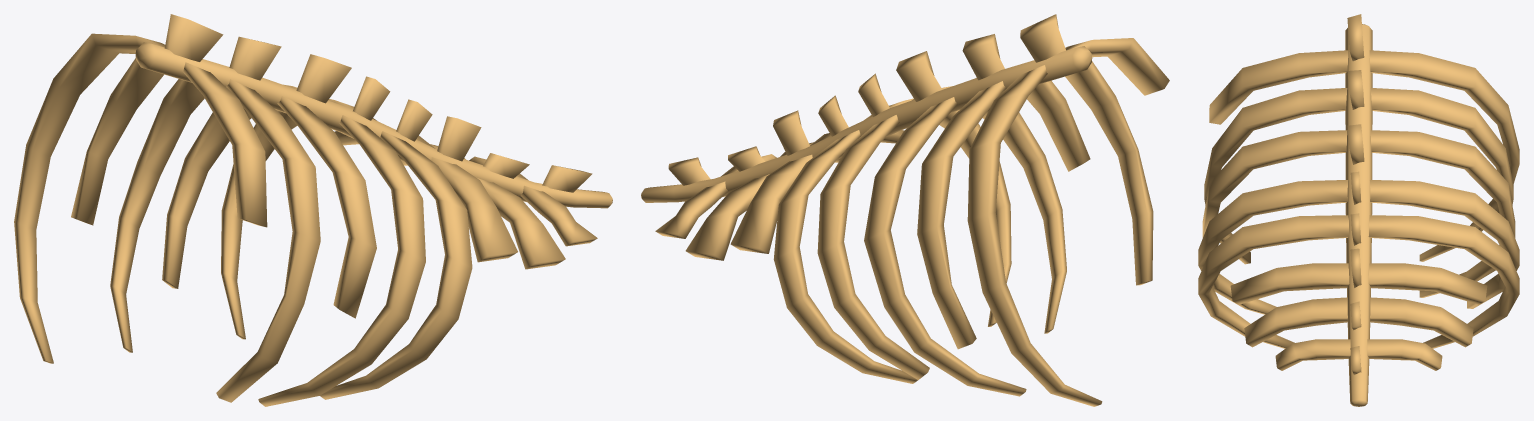
The model's file is Bones_04.fbx.
The picture shows the model from 3 angles, left to right: view 1: azimuth 30°, elevation 25°; view 2: azimuth 150°, elevation 25°; view 3: azimuth 270°, elevation 25°; orthographic projection. The views are drawn at different scales.
Parts seen in each view (by area): view 1: Bones_04; view 2: Bones_04; view 3: Bones_04.
Boxes of the visible parts, box(x1,y1,x2,y2) form: Bones_04: box(14, 14, 612, 406); Bones_04: box(641, 14, 1169, 406); Bones_04: box(1198, 14, 1519, 406).
Size of the model in its own units: 267 by 185 by 182.
